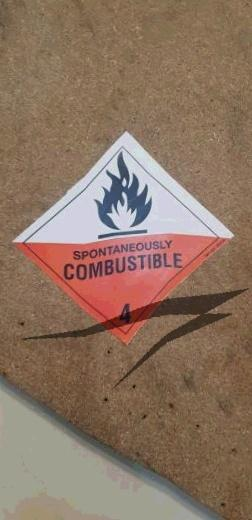spontaneously-combustible: (10, 133, 237, 351)
